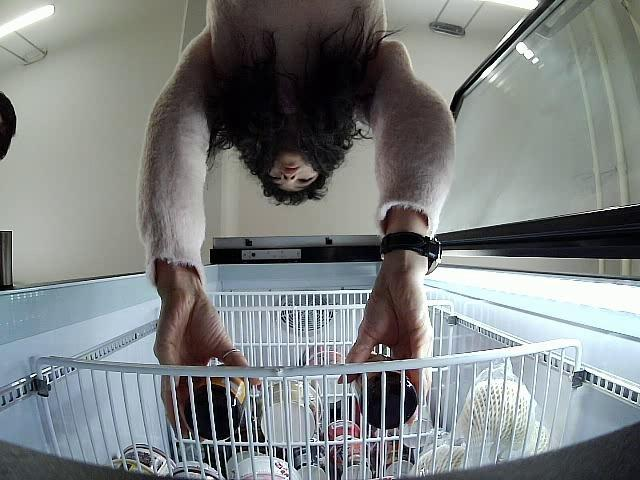17_vita500: (183, 359, 251, 437), (352, 354, 418, 429)
